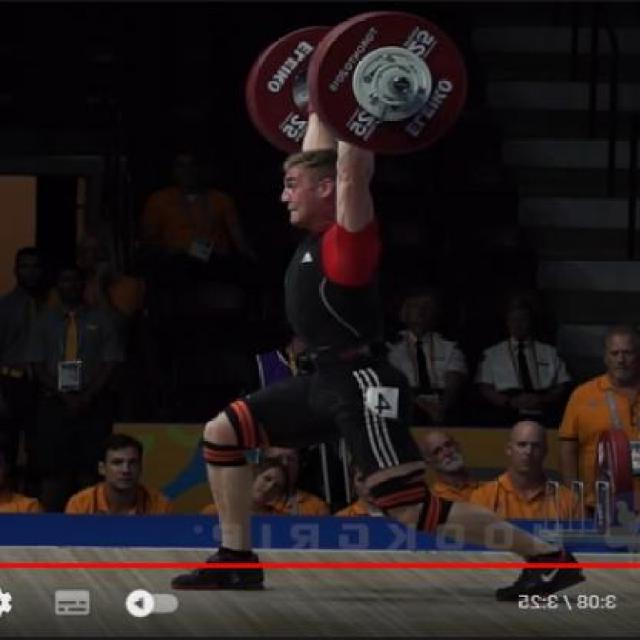Barbell: (389, 74, 414, 97)
